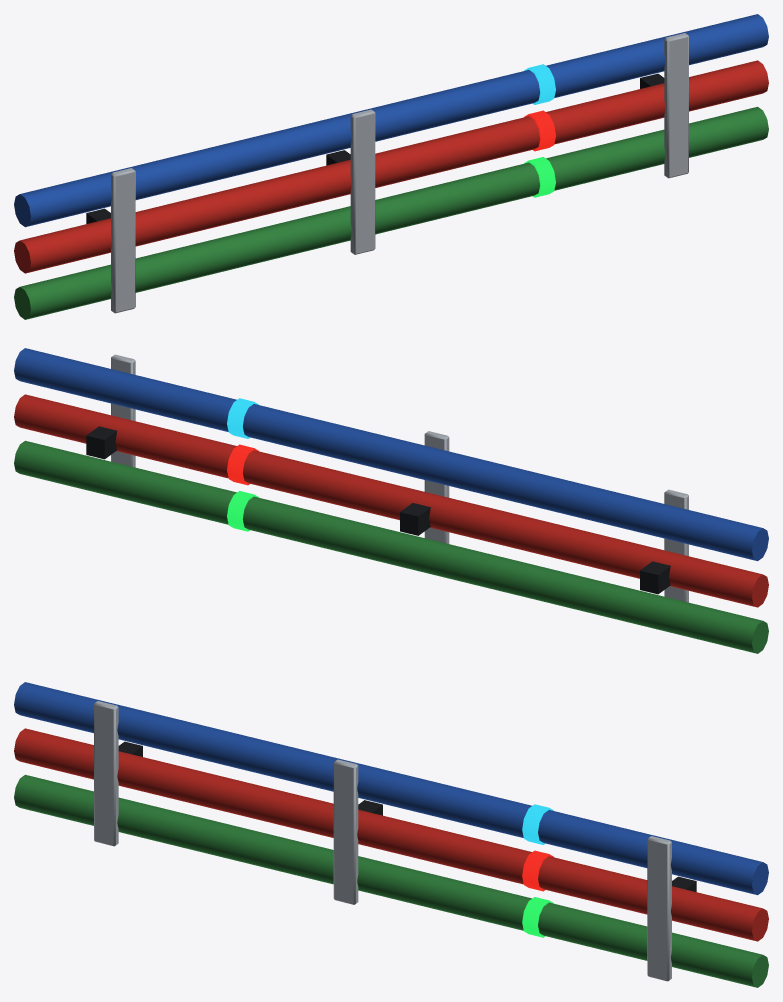
The model's file is pipe_triple_bundle.glb.
The picture shows the model from 3 angles, top to bottom: view 1: azimuth 30°, elevation 25°; view 2: azimuth 150°, elevation 25°; view 3: azimuth 330°, elevation 25°; orthographic projection.
Visible parts, largest first — view 1: pipe_triple_bundle; view 2: pipe_triple_bundle; view 3: pipe_triple_bundle.
Part boxes in pixels (x1,y1,x2,y2): pipe_triple_bundle: (14,14,768,319); pipe_triple_bundle: (14,348,768,653); pipe_triple_bundle: (14,682,768,987).
Bounding box in the file's own units: 2 × 0.36 × 0.14.
